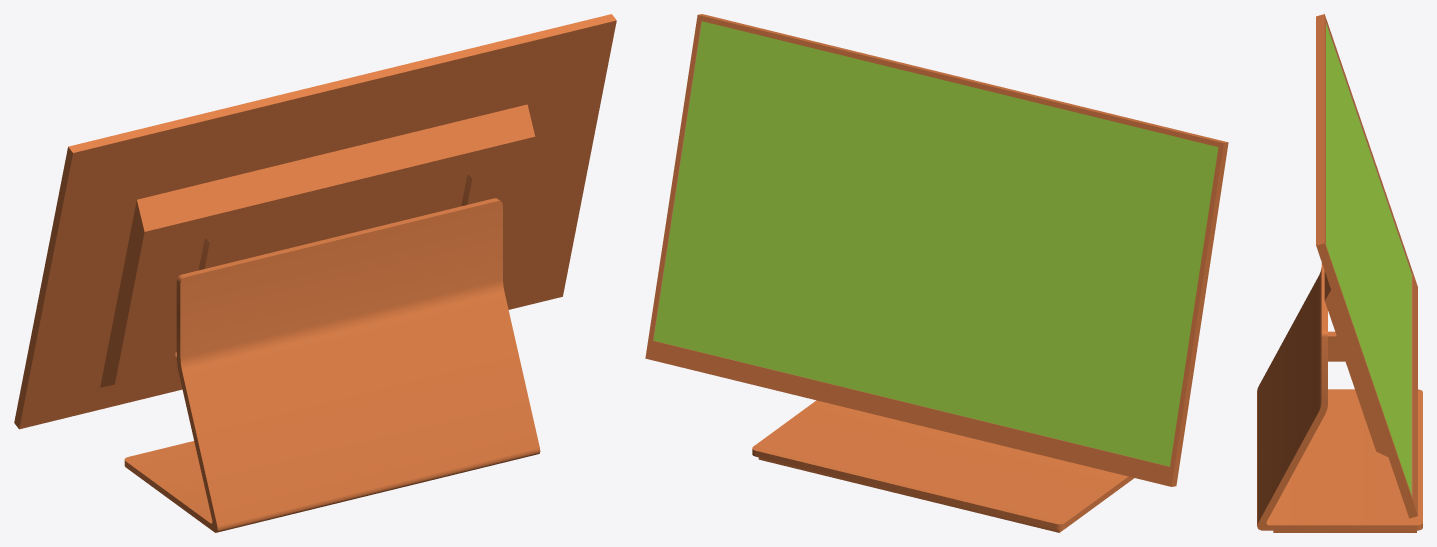
File: PF_Terminal1.glb
3 renders of one model, left to right at view 1: azimuth 30°, elevation 25°; view 2: azimuth 150°, elevation 25°; view 3: azimuth 270°, elevation 25°, orthographic. The views are drawn at different scales.
Visible parts, largest first — view 1: SM_Terminal1_Base; view 2: SM_Terminal_Screen, SM_Terminal_ScreenGlass, SM_Terminal1_Base; view 3: SM_Terminal1_Base, SM_Terminal_ScreenGlass, SM_Terminal_Screen.
Boxes of the visible parts, left/top/right/bottom form: SM_Terminal1_Base: left=14, top=14, right=616, bottom=532; SM_Terminal_Screen: left=653, top=21, right=1218, bottom=466; SM_Terminal_ScreenGlass: left=653, top=21, right=1217, bottom=466; SM_Terminal1_Base: left=645, top=14, right=1228, bottom=532; SM_Terminal1_Base: left=1257, top=14, right=1422, bottom=532; SM_Terminal_ScreenGlass: left=1326, top=23, right=1411, bottom=494; SM_Terminal_Screen: left=1326, top=24, right=1411, bottom=494.
Size of what is drawn, in the model's own units: 0.7199 by 0.496 by 0.2199.
